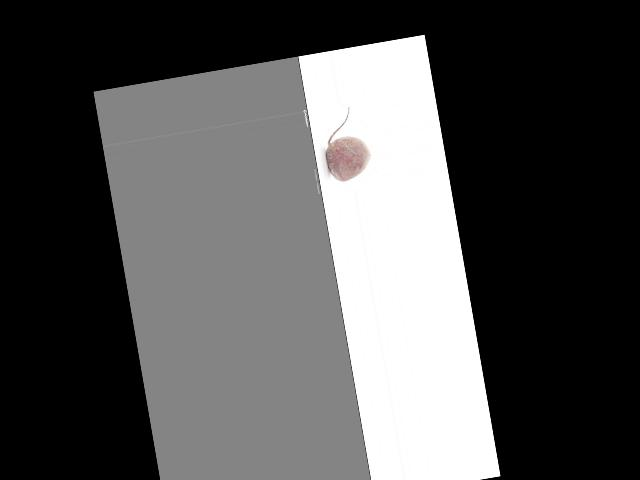beet: (318, 105, 373, 184)
